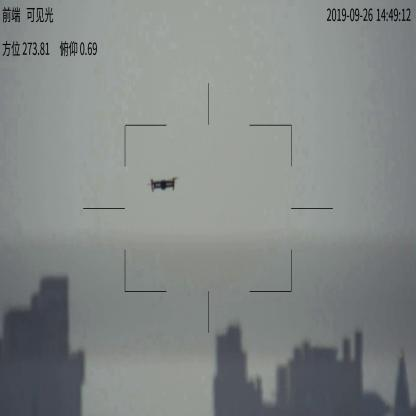uav: (144, 175, 182, 192)
